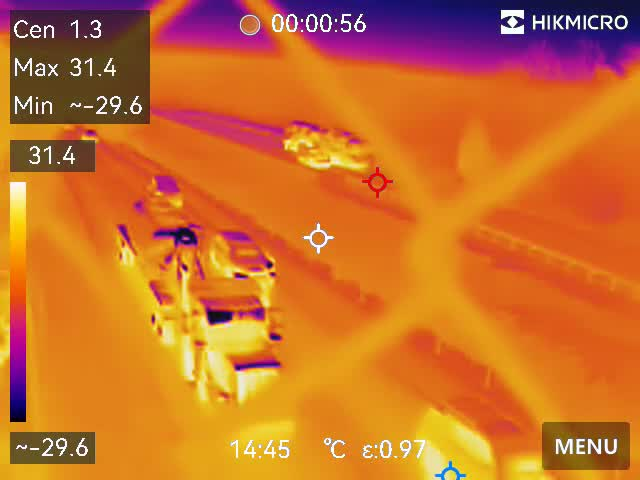heavyTruck: (111, 196, 282, 423), (282, 120, 375, 170)
largeCar: (408, 390, 577, 480)
vehicle: (214, 226, 277, 277), (146, 173, 187, 212), (294, 145, 330, 171)
